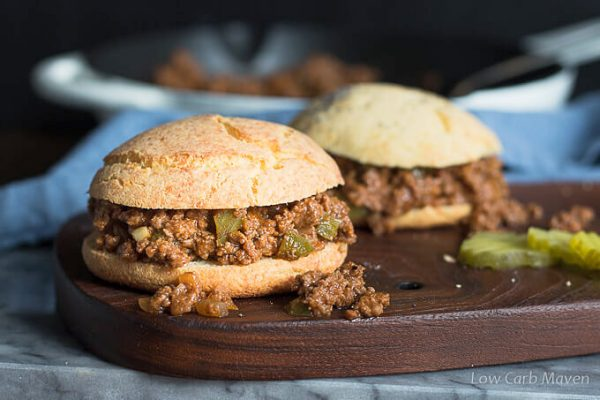hamburger_buns: (99, 115, 346, 223), (282, 73, 516, 174)
